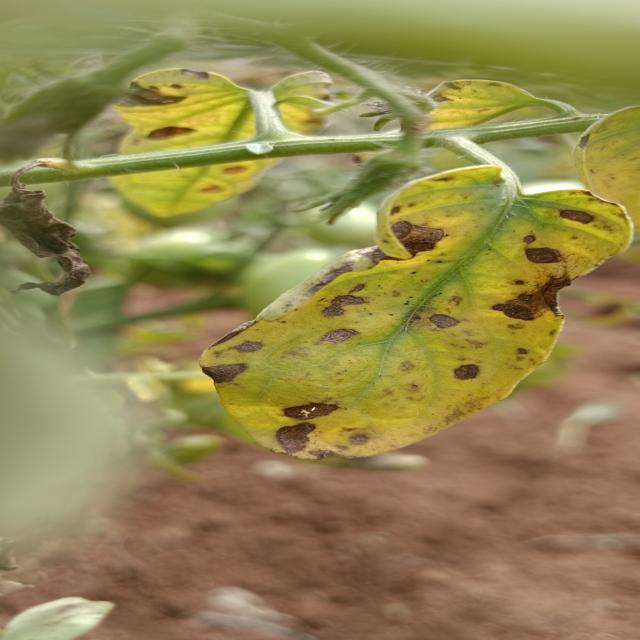tomato_early blight: (202, 162, 631, 460), (112, 62, 339, 218), (391, 82, 543, 143)
